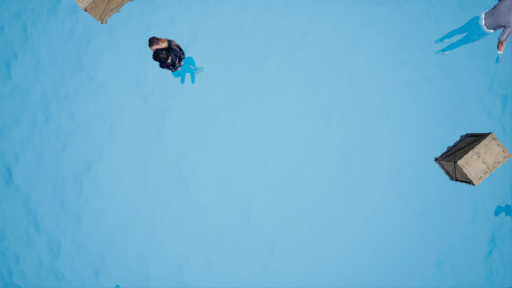person: (431, 1, 512, 65), (146, 35, 206, 82)
